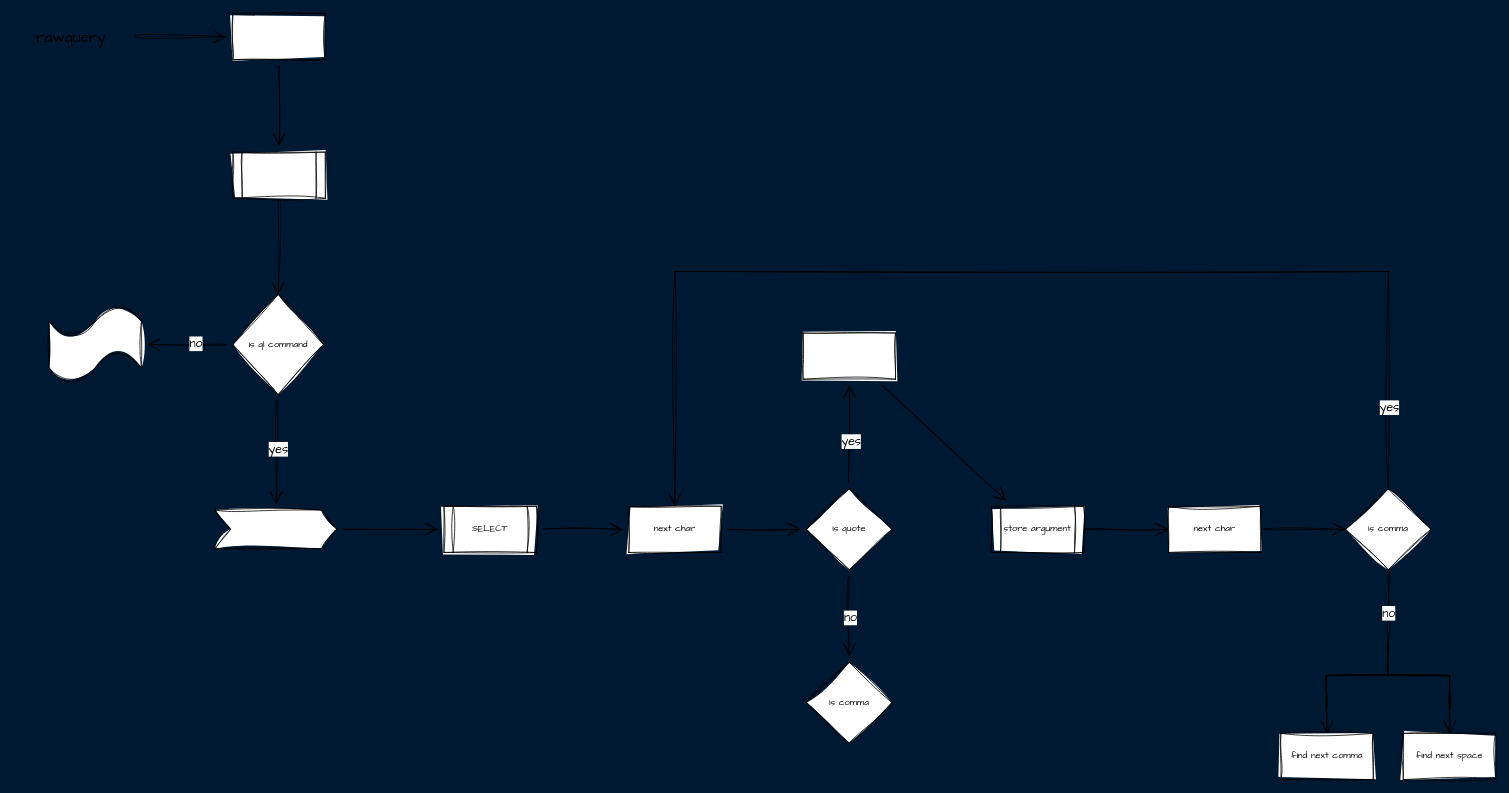
Some shapes in this 1509 by 793 pixel diagram are drawn without their labels. Here are the shapes that lost their labels. From the top down, the centre of each, then its label:
[278,36]: next word
[278,174]: resolve command
[94,344]: error
[849,355]: read until close
[275,529]: solve command
